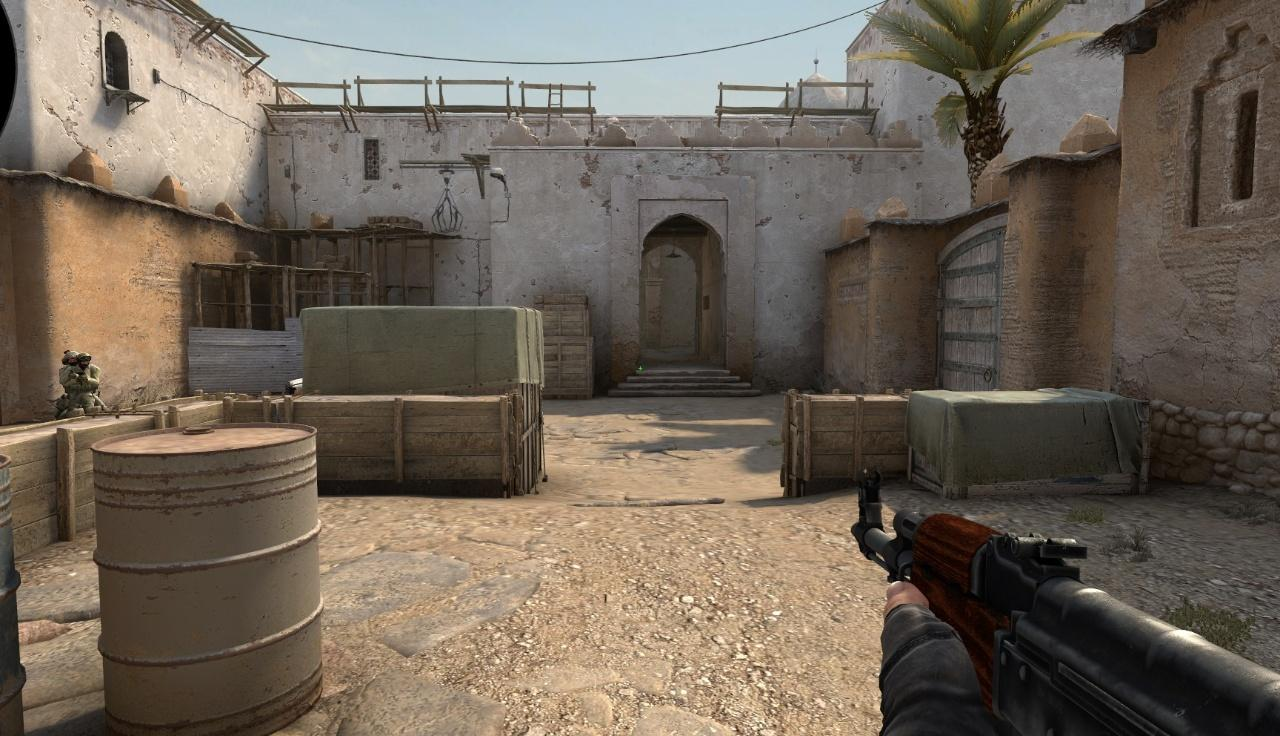ct: (59, 350, 102, 413)
cthead: (79, 353, 92, 367), (66, 352, 78, 366)
rifle: (849, 471, 1280, 736)
